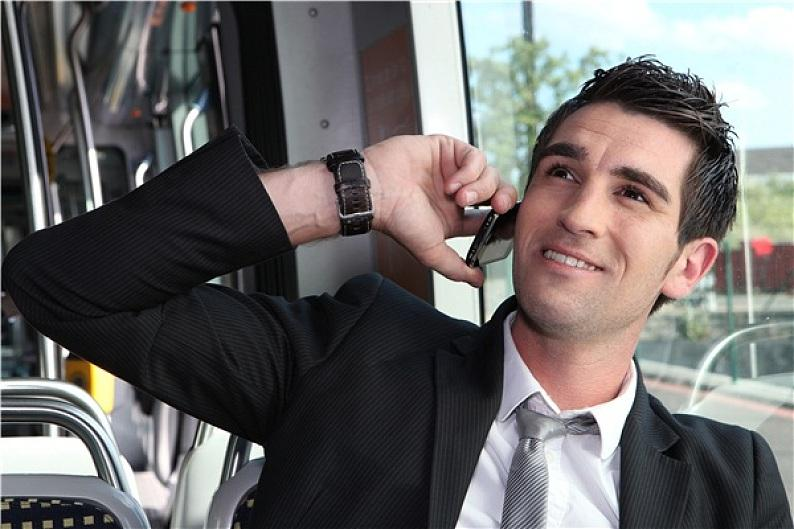calling: (373, 125, 522, 290)
